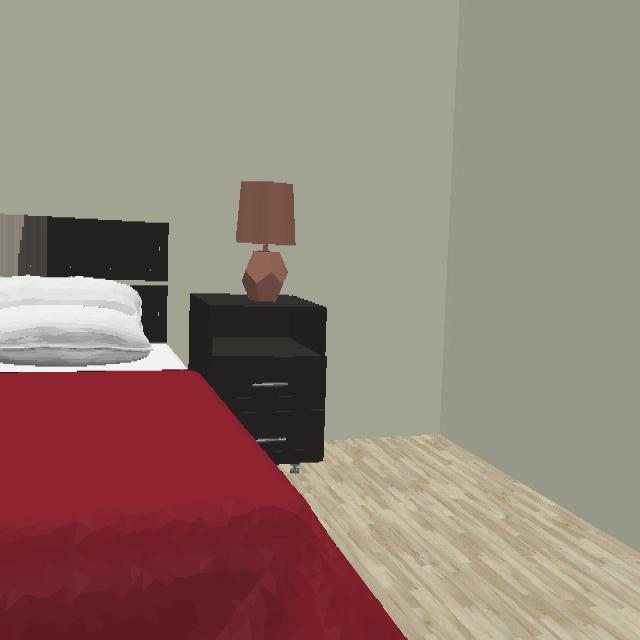bed: (0, 215, 407, 640)
lamp: (236, 181, 296, 303)
nighttable: (188, 295, 329, 467)
pillow: (0, 277, 172, 371)
